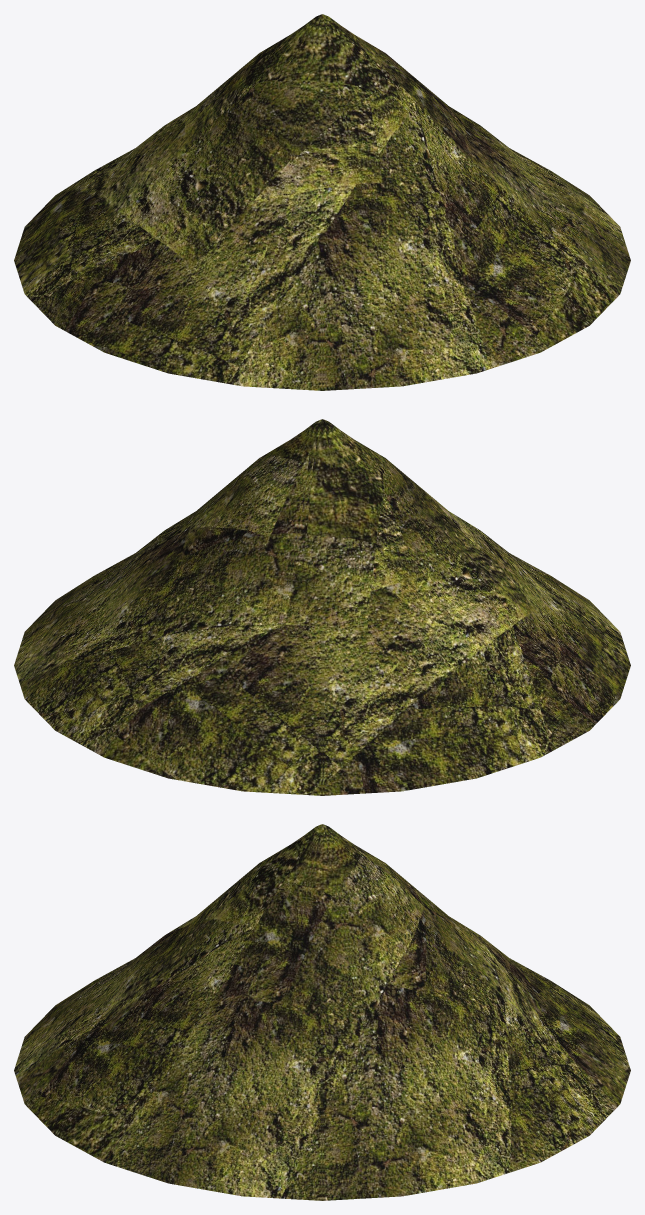
Rendered from Mountain.fbx.
The picture shows the model from 3 angles, top to bottom: view 1: azimuth 30°, elevation 25°; view 2: azimuth 150°, elevation 25°; view 3: azimuth 270°, elevation 25°; orthographic projection.
Parts seen in each view (by area): view 1: Mountain001; view 2: Mountain001; view 3: Mountain001.
Boxes of the visible parts, x1=… form: Mountain001: x1=14, y1=14, x2=630, y2=390; Mountain001: x1=14, y1=419, x2=630, y2=795; Mountain001: x1=14, y1=824, x2=630, y2=1200.
Bounding box in the file's own units: 61.36 × 27.05 × 61.36.
